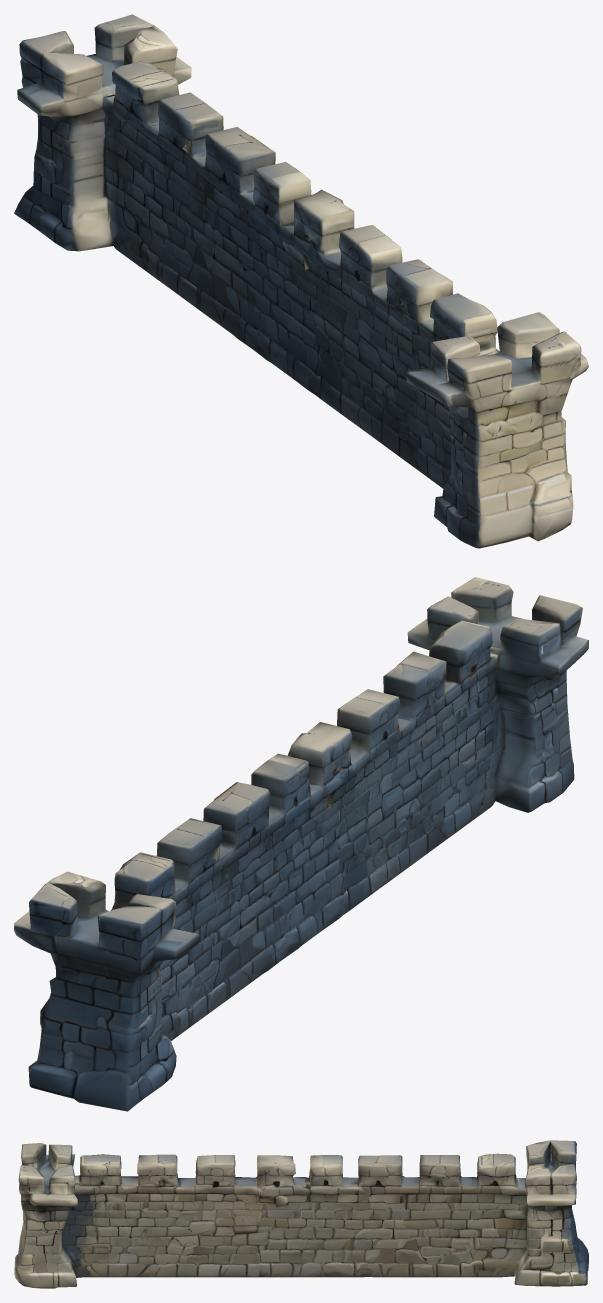
Rendered from mauer.glb.
3 views of the same model, one above another, from view 1: azimuth 30°, elevation 25°; view 2: azimuth 150°, elevation 25°; view 3: azimuth 270°, elevation 25° (orthographic). The views are drawn at different scales.
Visible parts, largest first — view 1: tripo_node_52a5405f-fa80-40ff-a0ee-1928dc49f8a7; view 2: tripo_node_52a5405f-fa80-40ff-a0ee-1928dc49f8a7; view 3: tripo_node_52a5405f-fa80-40ff-a0ee-1928dc49f8a7.
Boxes of the visible parts, left/top/right/bottom form: tripo_node_52a5405f-fa80-40ff-a0ee-1928dc49f8a7: left=14, top=14, right=588, bottom=548; tripo_node_52a5405f-fa80-40ff-a0ee-1928dc49f8a7: left=14, top=577, right=588, bottom=1111; tripo_node_52a5405f-fa80-40ff-a0ee-1928dc49f8a7: left=14, top=1140, right=588, bottom=1288.
Size of the model in its own units: 0.1917 by 0.226 by 1.
1 material, 1 textured.
